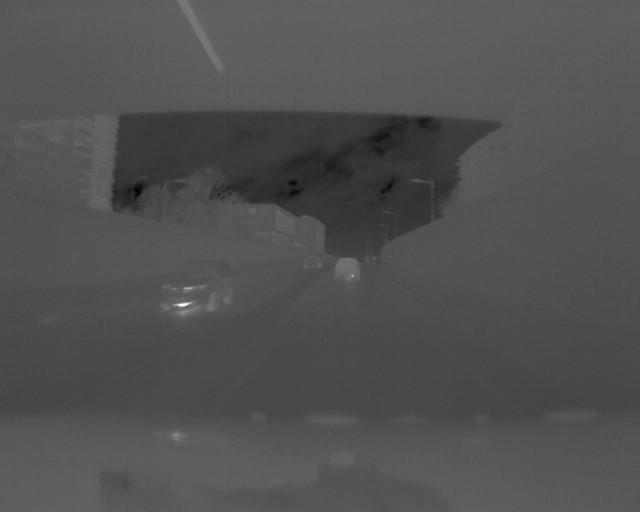car: (159, 259, 238, 315), (335, 256, 362, 284)
